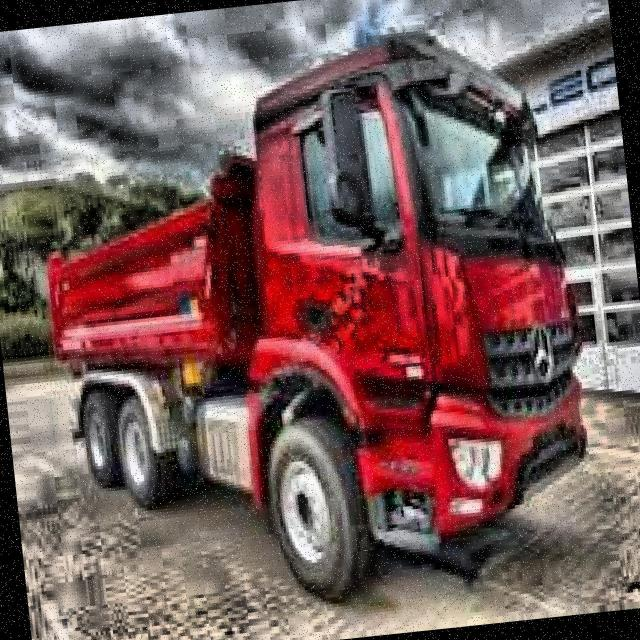dump_truck: (11, 18, 620, 630)
